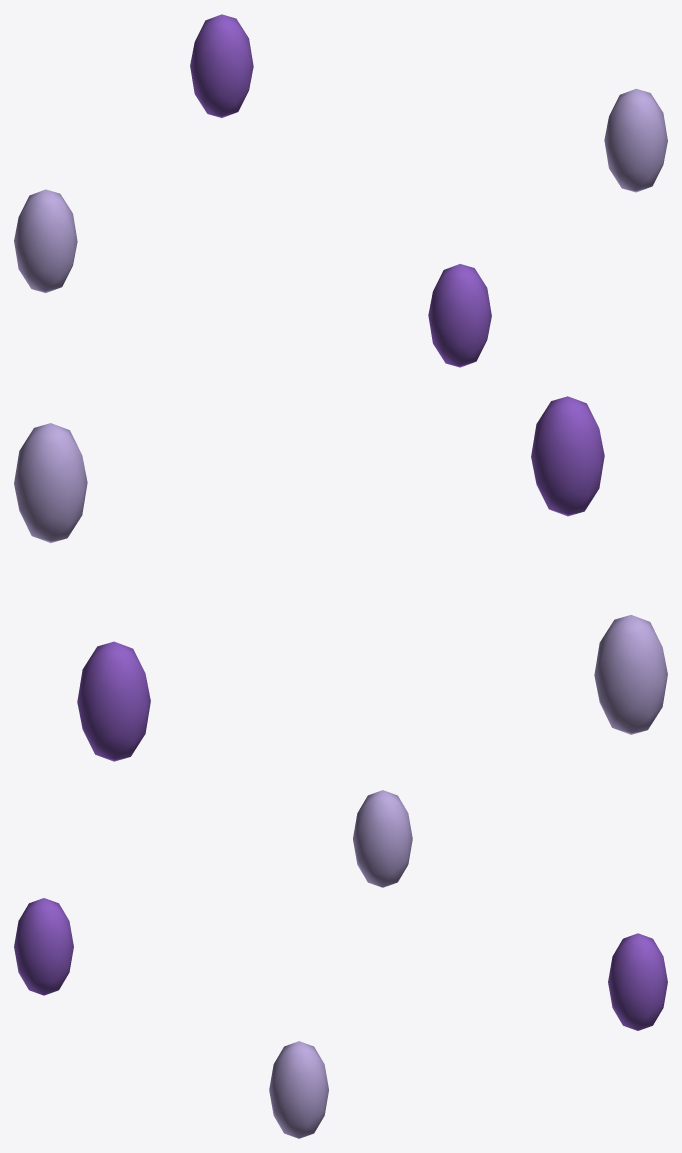
Rendered from boundary.glb.
3 renders of one model, top to bottom at view 1: azimuth 30°, elevation 25°; view 2: azimuth 150°, elevation 25°; view 3: azimuth 270°, elevation 25°, orthographic. The views are drawn at different scales.
Parts seen in each view (by area): view 1: boundary_1, boundary_3, boundary_0, boundary_2; view 2: boundary_0, boundary_2, boundary_1, boundary_3; view 3: boundary_1, boundary_3, boundary_0, boundary_2.
Boxes of the visible parts, x1,y1,x2,y2 form: boundary_1: (428,264,491,367); boundary_3: (190,14,253,117); boundary_0: (604,88,667,192); boundary_2: (14,189,77,293); boundary_0: (14,423,87,542); boundary_2: (594,615,667,734); boundary_1: (531,396,604,516); boundary_3: (77,641,150,761); boundary_1: (14,898,73,995); boundary_3: (608,933,667,1030); boundary_0: (269,1041,328,1138); boundary_2: (353,790,412,887).
Size of what is drawn, in the model's own units: 18.53 by 3.06 by 18.53.
